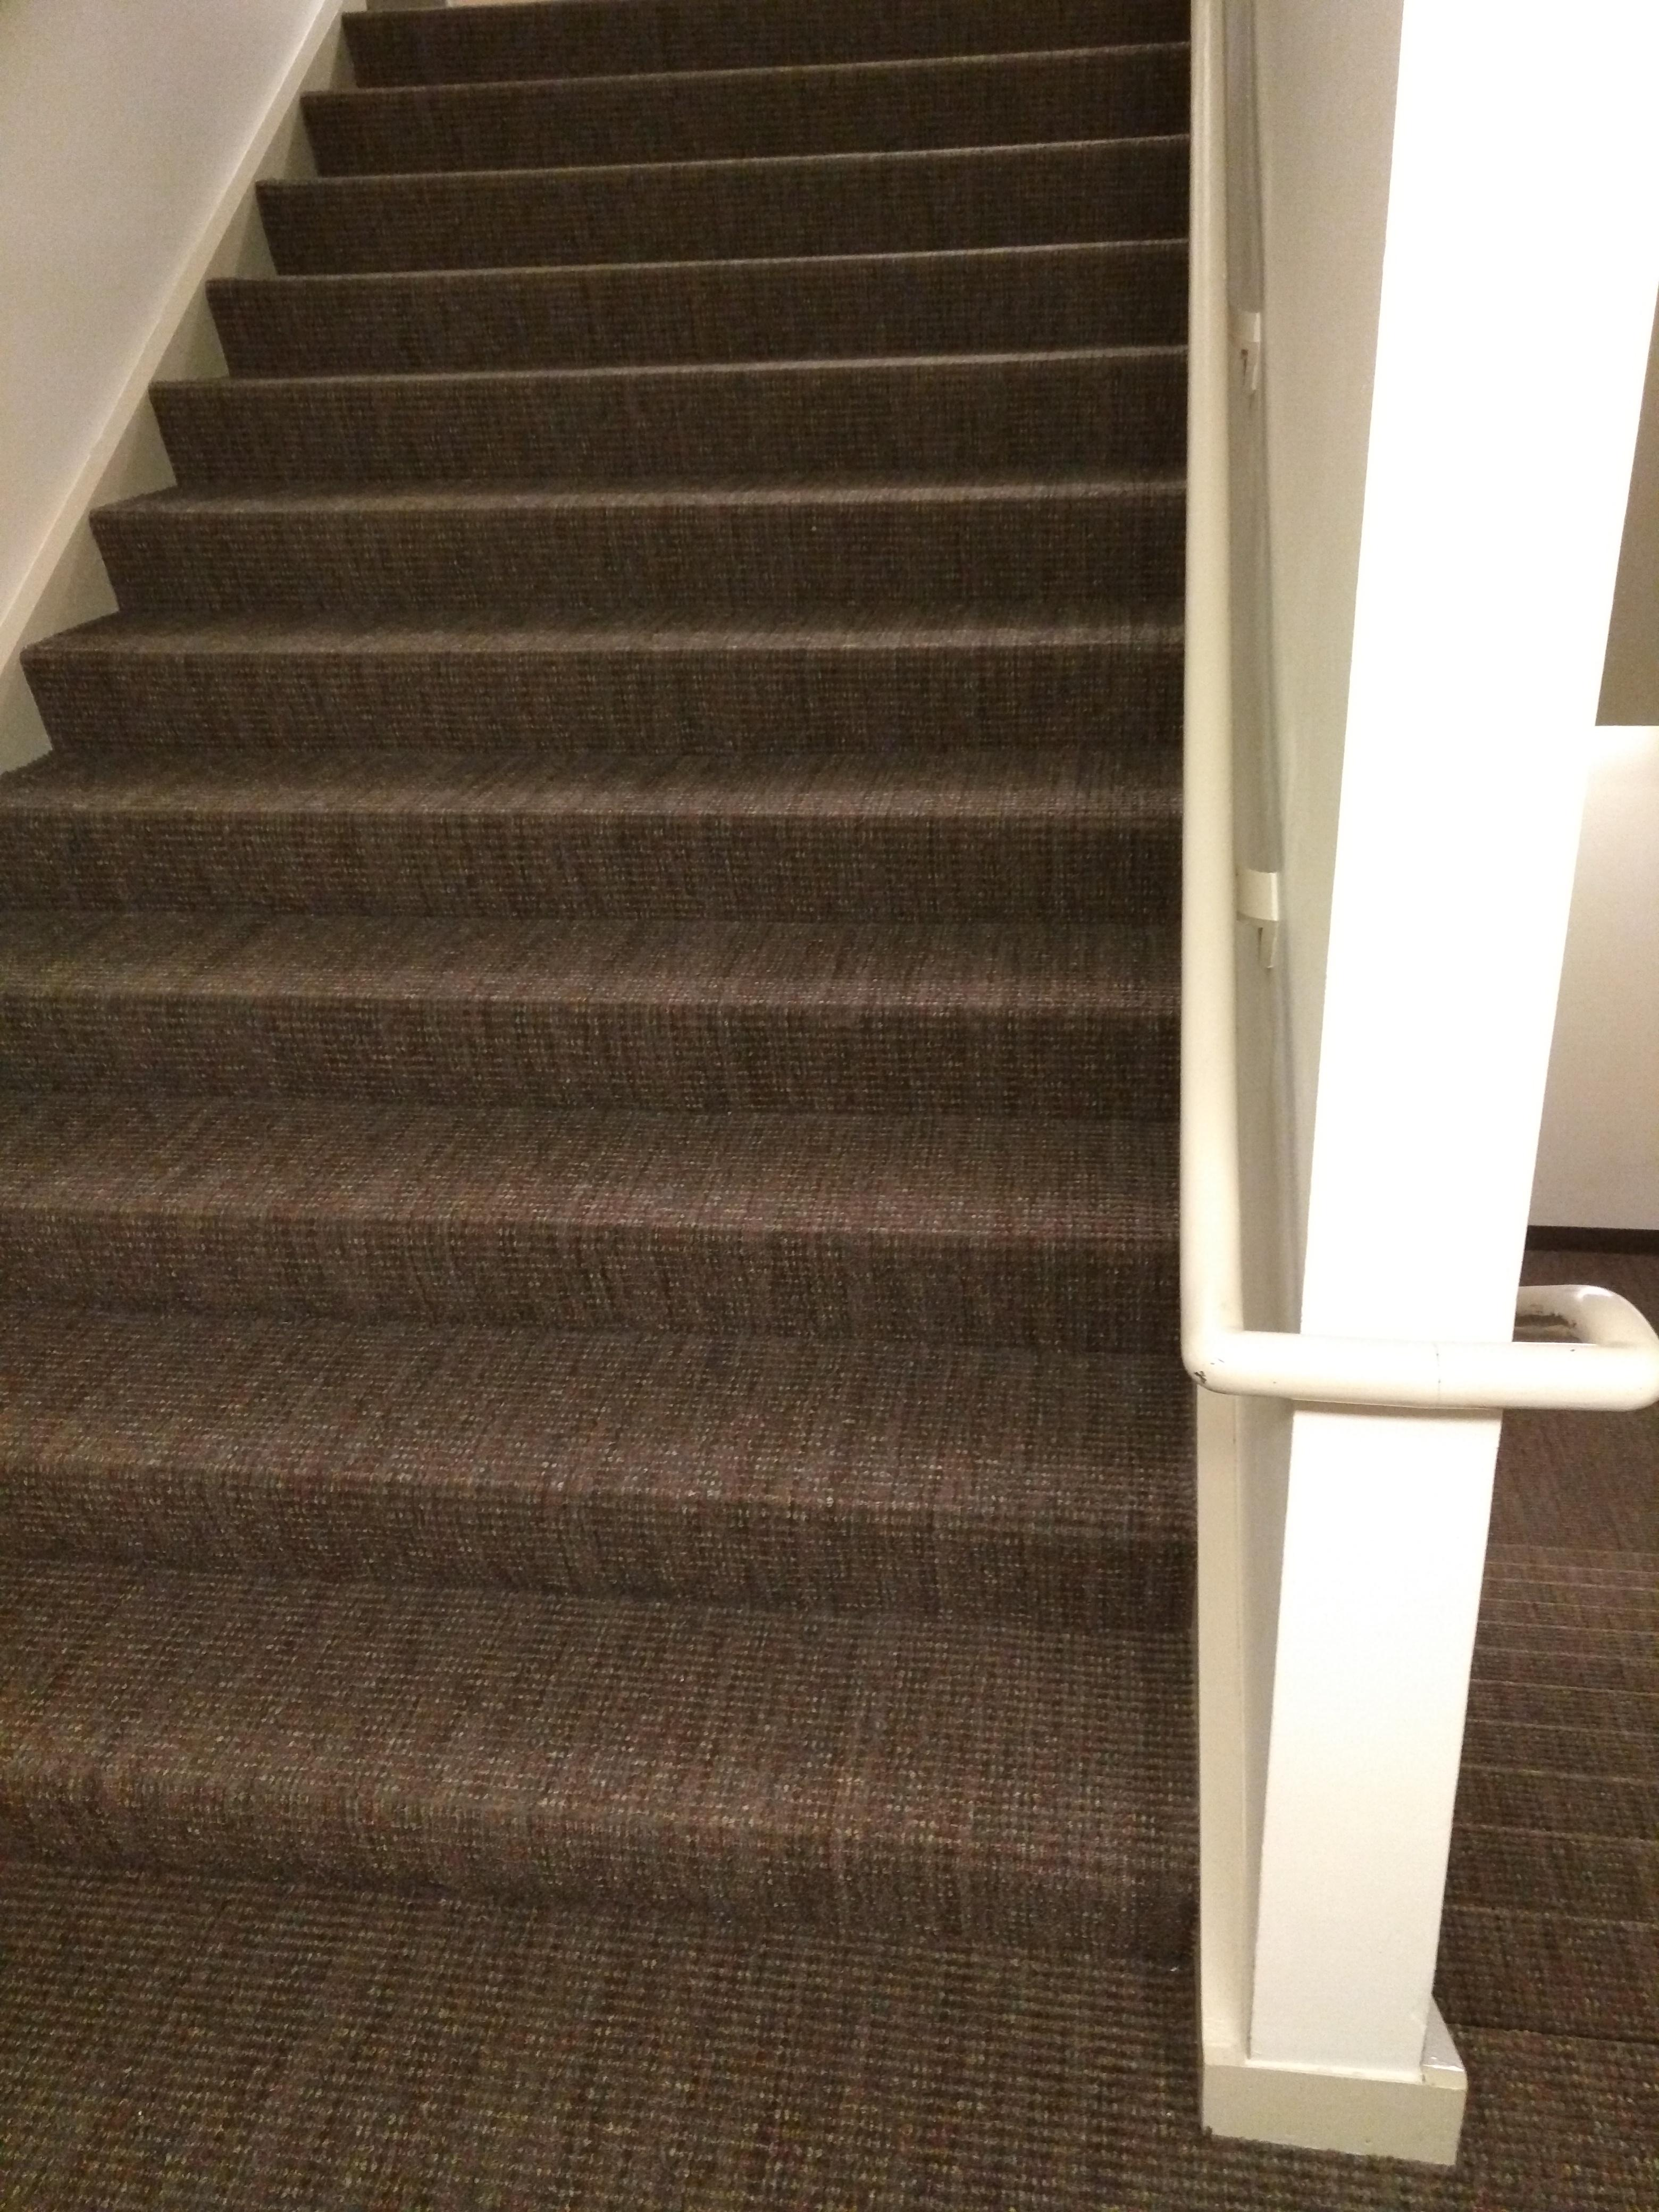stairs_up: (5, 9, 1204, 1912)
